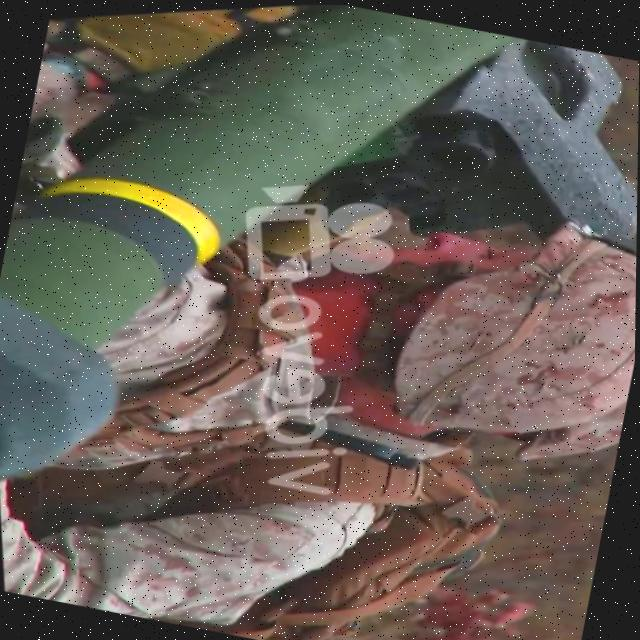rocket: (0, 0, 640, 582)
